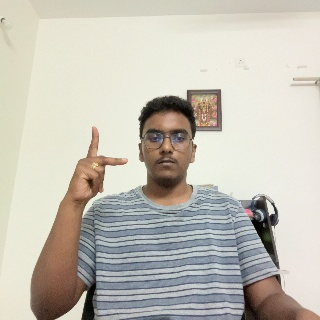Face: (141, 103, 196, 190)
Okay: (70, 127, 127, 211)
